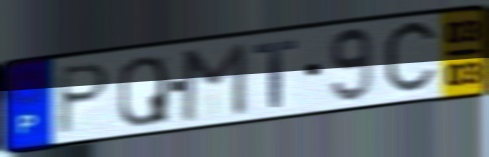9: (326, 24, 377, 107)
C: (381, 16, 441, 101)
M: (178, 39, 249, 125)
P: (54, 61, 114, 138)
Q: (116, 54, 172, 129)
T: (251, 37, 299, 111)
